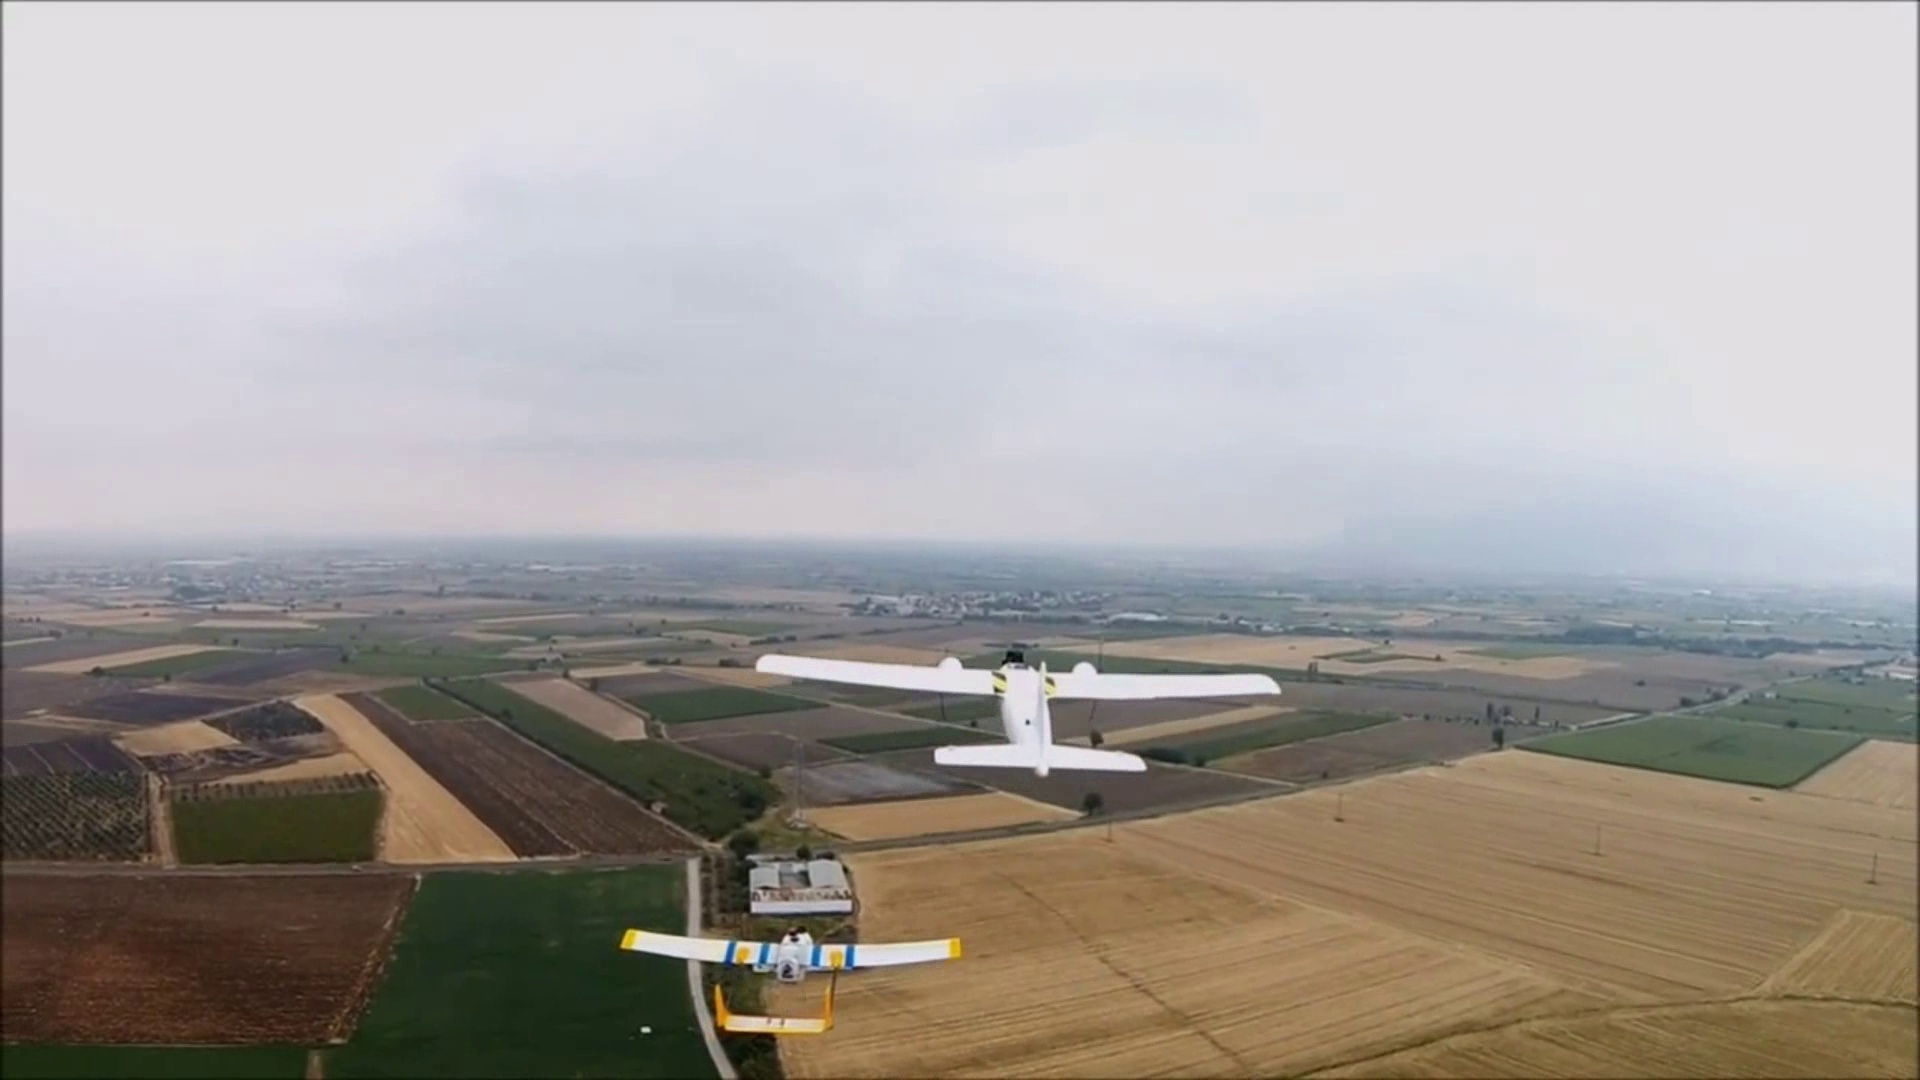airplane: (748, 644, 1298, 777)
